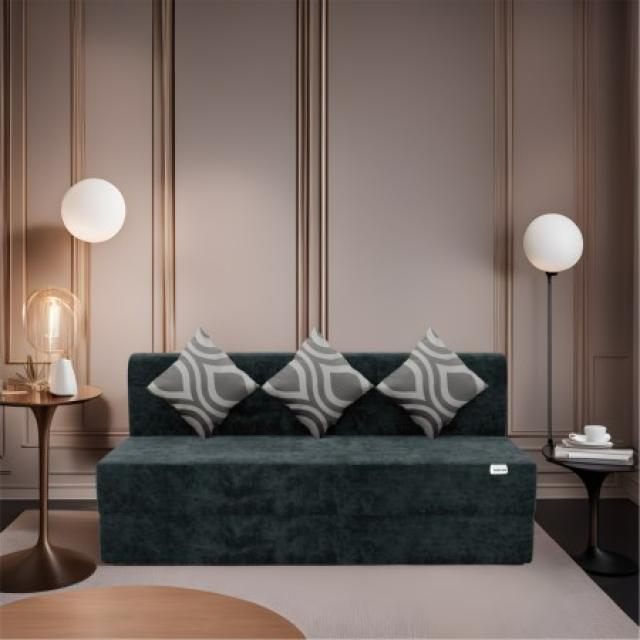sofa: (95, 347, 536, 566)
